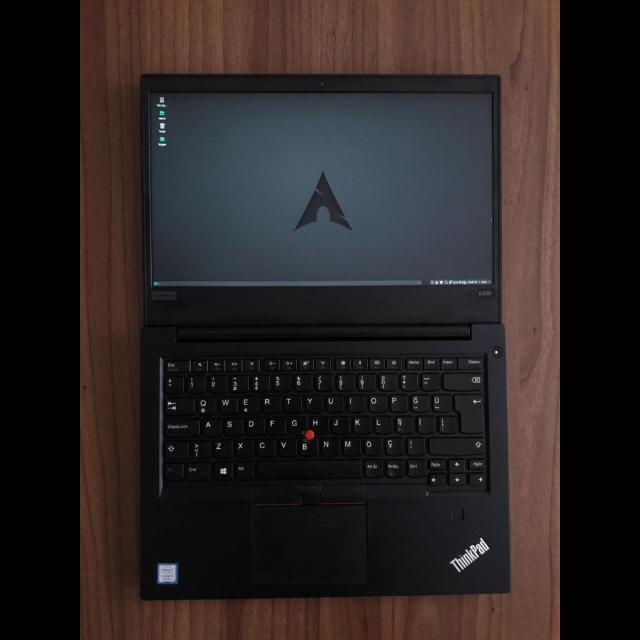laptop: (139, 74, 509, 599)
